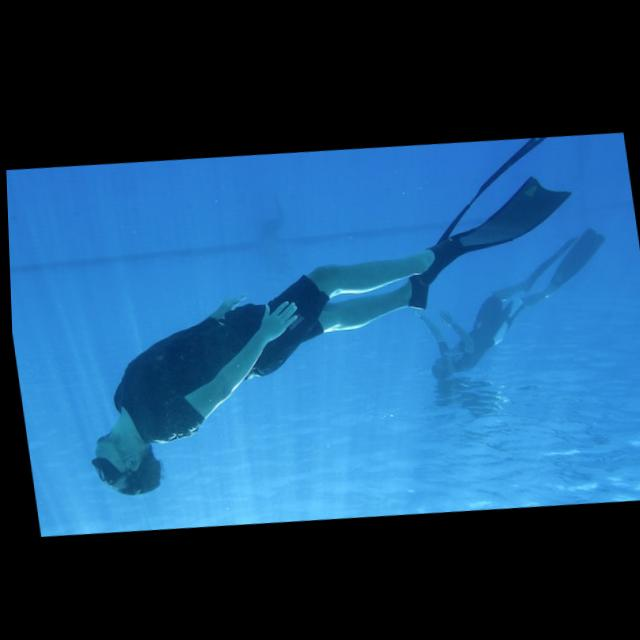human: (55, 222, 488, 518), (406, 243, 580, 385)
